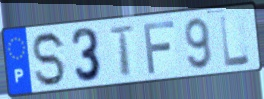3: (70, 26, 104, 84)
9: (183, 15, 214, 71)
F: (141, 18, 176, 76)
L: (217, 12, 252, 69)
S: (31, 30, 68, 89)
T: (108, 23, 138, 78)
